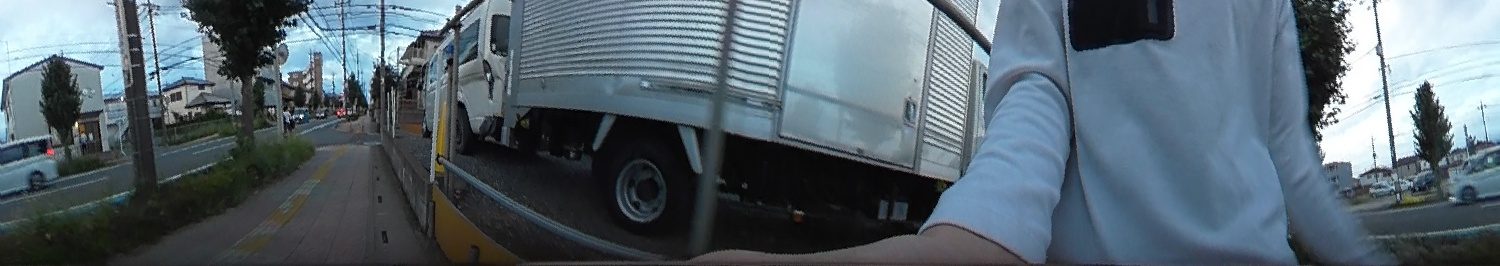difficult_person: (280, 102, 295, 133)
